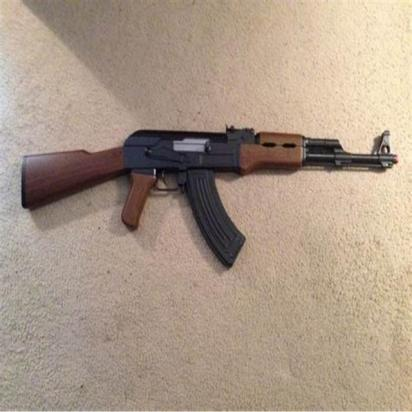Gun: (18, 127, 400, 265)
